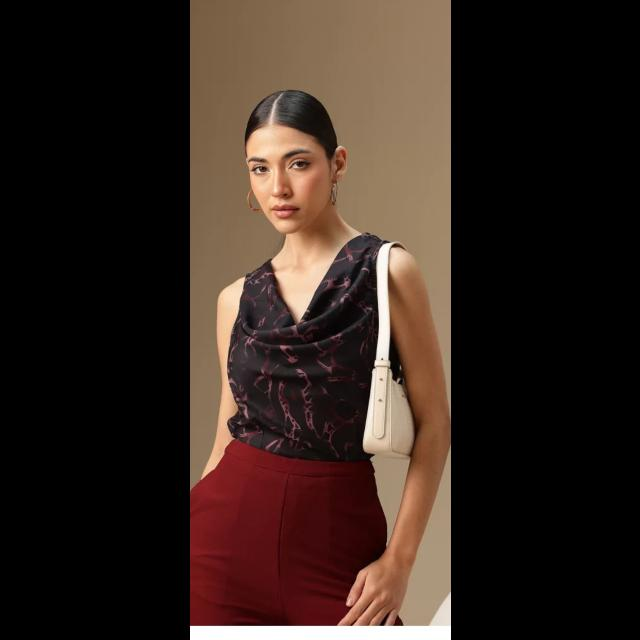bottom: (190, 441, 394, 625)
top: (223, 235, 389, 450)
